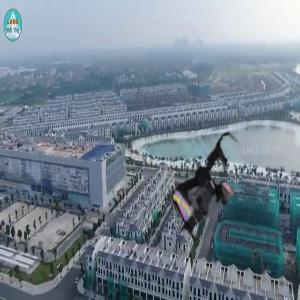drone: (156, 137, 261, 242)
